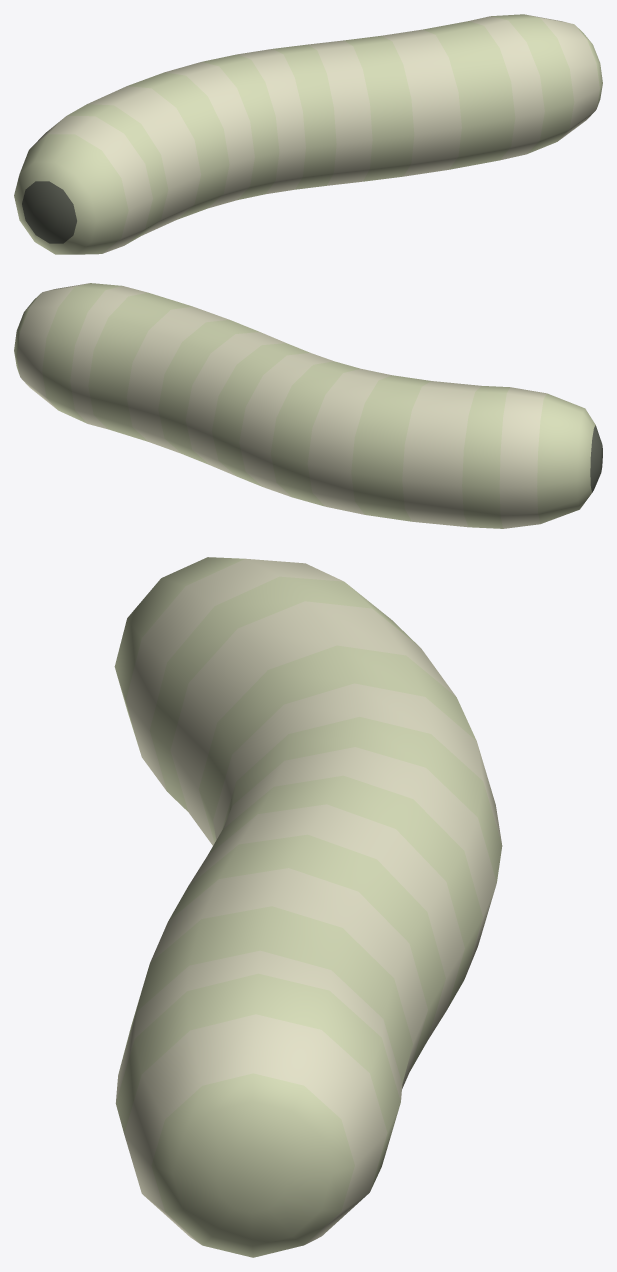
Rendered from robak2.fbx.
3 views of the same model, one above another, from view 1: azimuth 30°, elevation 25°; view 2: azimuth 150°, elevation 25°; view 3: azimuth 270°, elevation 25° (orthographic). The views are drawn at different scales.
Visible parts, largest first — view 1: BezierCurve; view 2: BezierCurve; view 3: BezierCurve.
Part boxes in pixels (x1,y1,x2,y2): BezierCurve: (14, 14, 602, 254); BezierCurve: (14, 283, 602, 528); BezierCurve: (114, 557, 502, 1257).
Size of the model in its own units: 302 by 66 by 89.74.
